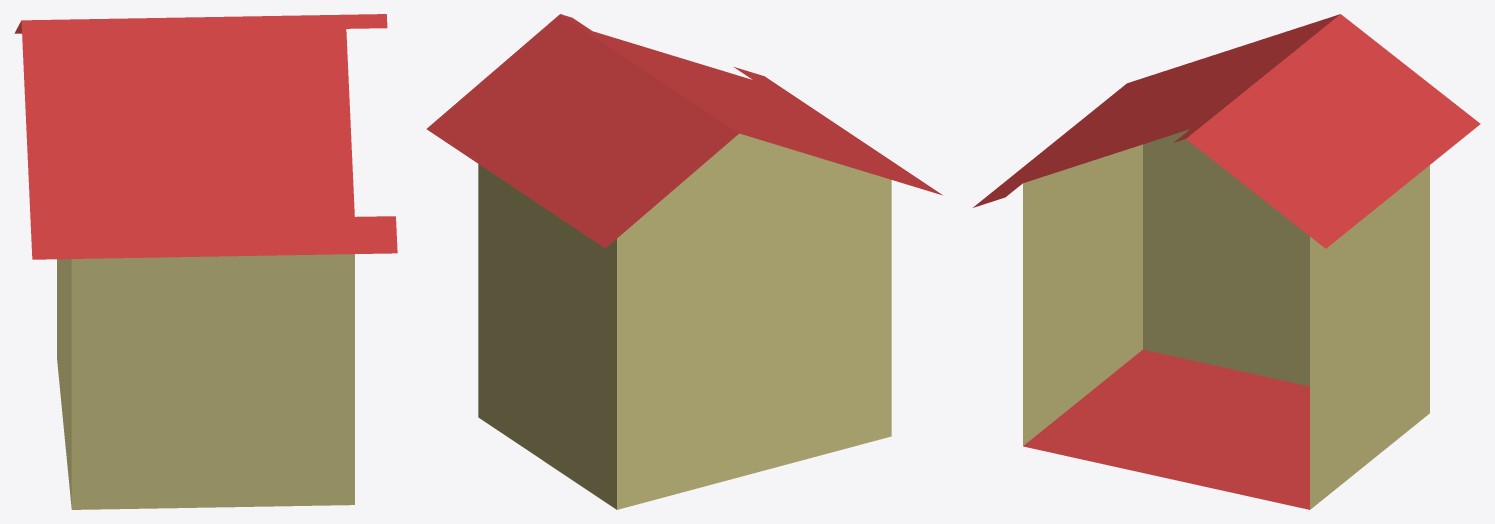
3 views of the same model, side by side, from view 1: azimuth 30°, elevation 25°; view 2: azimuth 150°, elevation 25°; view 3: azimuth 270°, elevation 25° (orthographic). The views are drawn at different scales.
Size of the model in its own units: 19.22 by 20.33 by 15.94.
